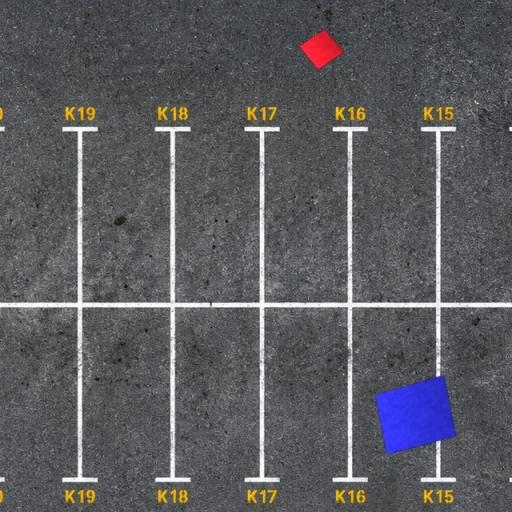BLUE_SQUARE: (374, 374, 457, 456)
RED_SQUARE: (298, 28, 345, 70)
